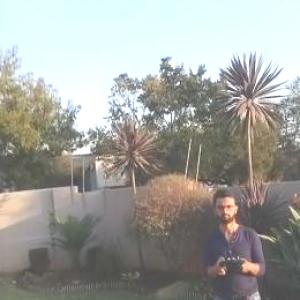follow: (200, 183, 270, 299)
